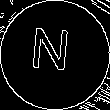N_S: (33, 28, 77, 82)
